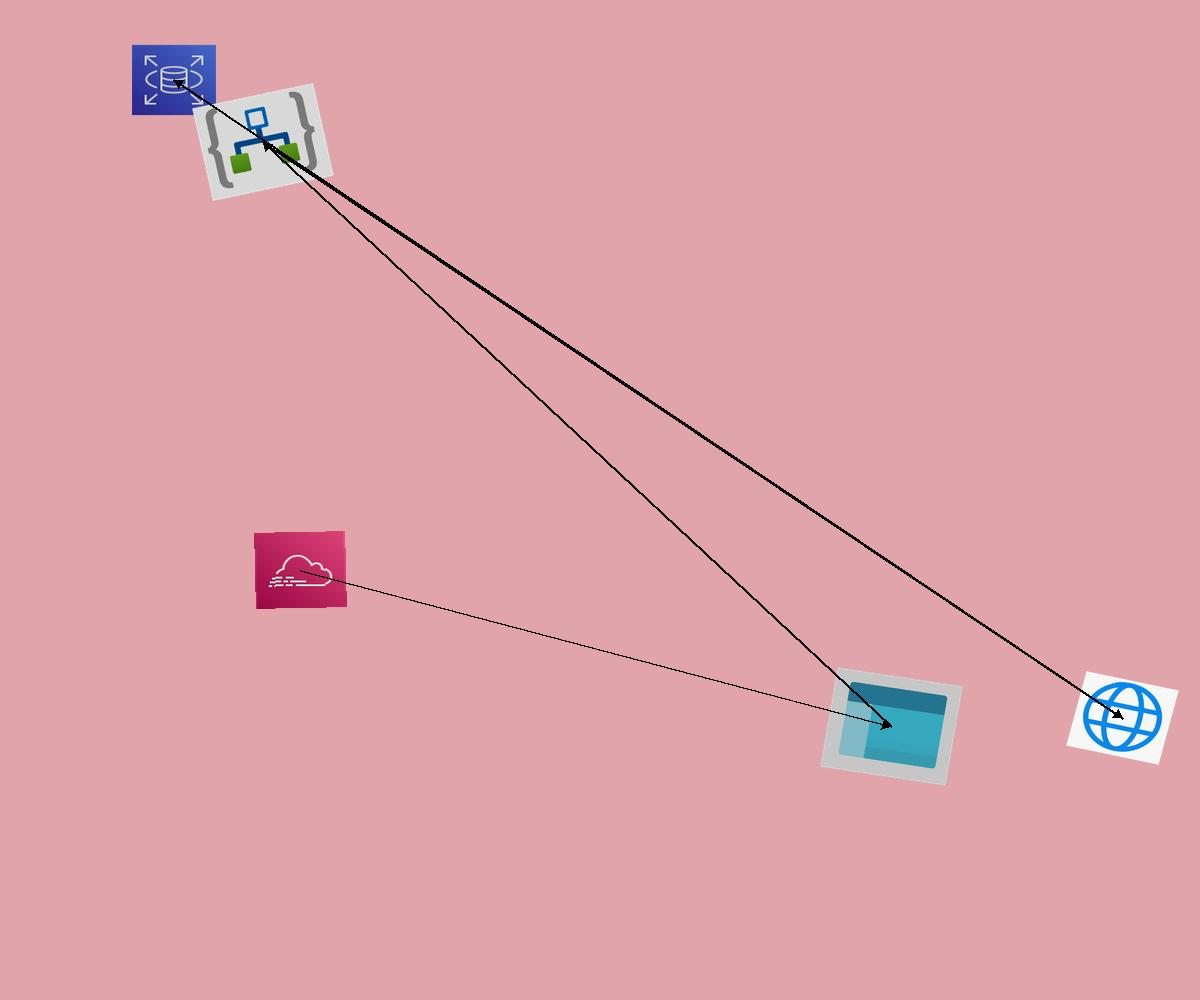AWS-CloudTrail: (254, 531, 347, 609)
AWS-RDS: (131, 44, 217, 116)
Azure_http: (1066, 671, 1179, 765)
Azure_integration-204-Logic-Apps: (192, 83, 334, 201)
Azure_management-portal: (820, 667, 963, 786)
